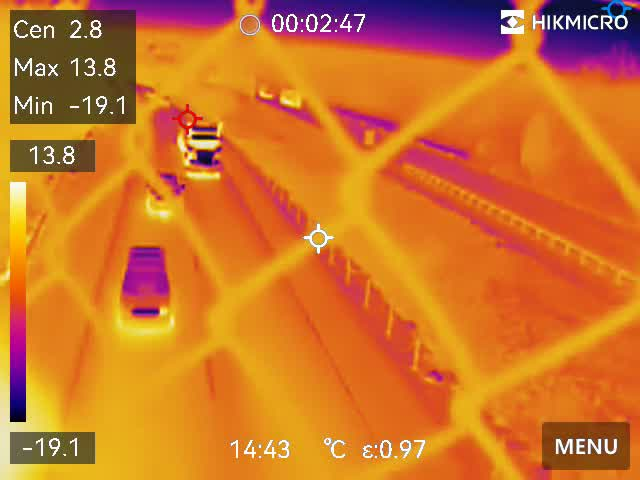heavyTruck: (172, 104, 228, 175)
vehicle: (116, 237, 175, 331), (139, 166, 190, 223), (273, 88, 314, 110)
